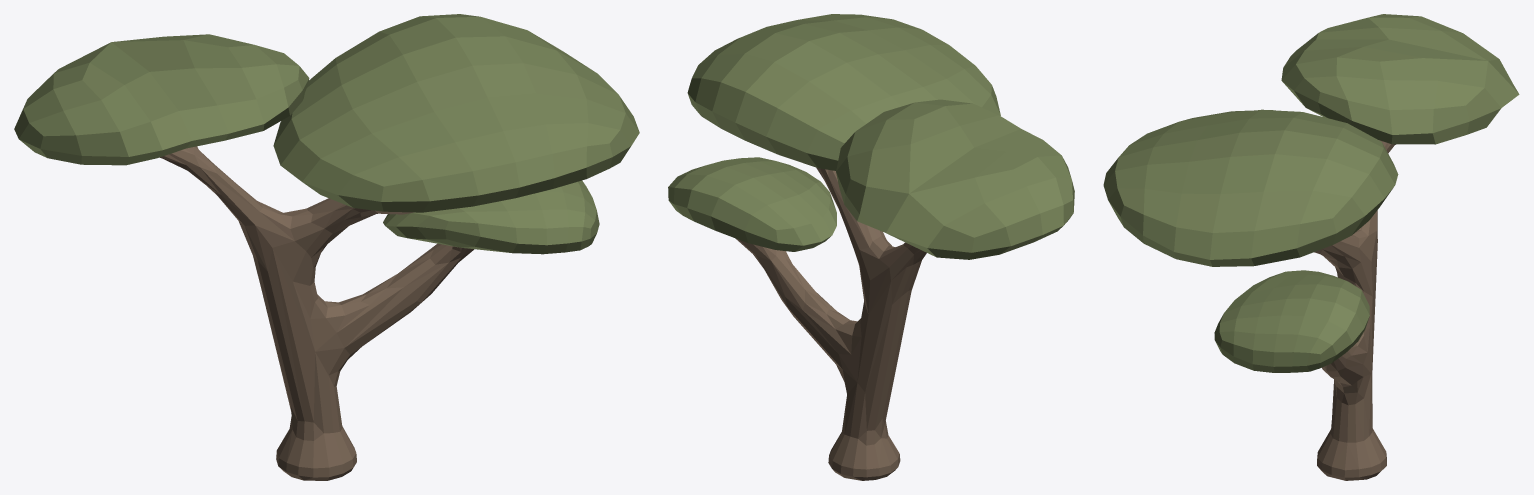
The model's file is tree-7.fbx.
3 renders of one model, left to right at view 1: azimuth 30°, elevation 25°; view 2: azimuth 150°, elevation 25°; view 3: azimuth 270°, elevation 25°, orthographic. The views are drawn at different scales.
Visible parts, largest first — view 1: Cube.074, Cube.076, Cube.065, Cube.075; view 2: Cube.074, Cube.076, Cube.065, Cube.075; view 3: Cube.074, Cube.076, Cube.075, Cube.065.
Part boxes in pixels (x1,y1,x2,y2): Cube.074: (273,14,639,212); Cube.076: (14,34,309,165); Cube.065: (160,146,473,480); Cube.075: (383,180,599,254); Cube.074: (687,14,1000,170); Cube.076: (836,99,1074,259); Cube.065: (735,167,926,480); Cube.075: (668,157,836,251); Cube.074: (1103,109,1398,266); Cube.076: (1281,14,1519,144); Cube.075: (1214,270,1369,372); Cube.065: (1314,140,1395,480).
Bounding box in the file's own units: 2363 × 1965 × 1919.
